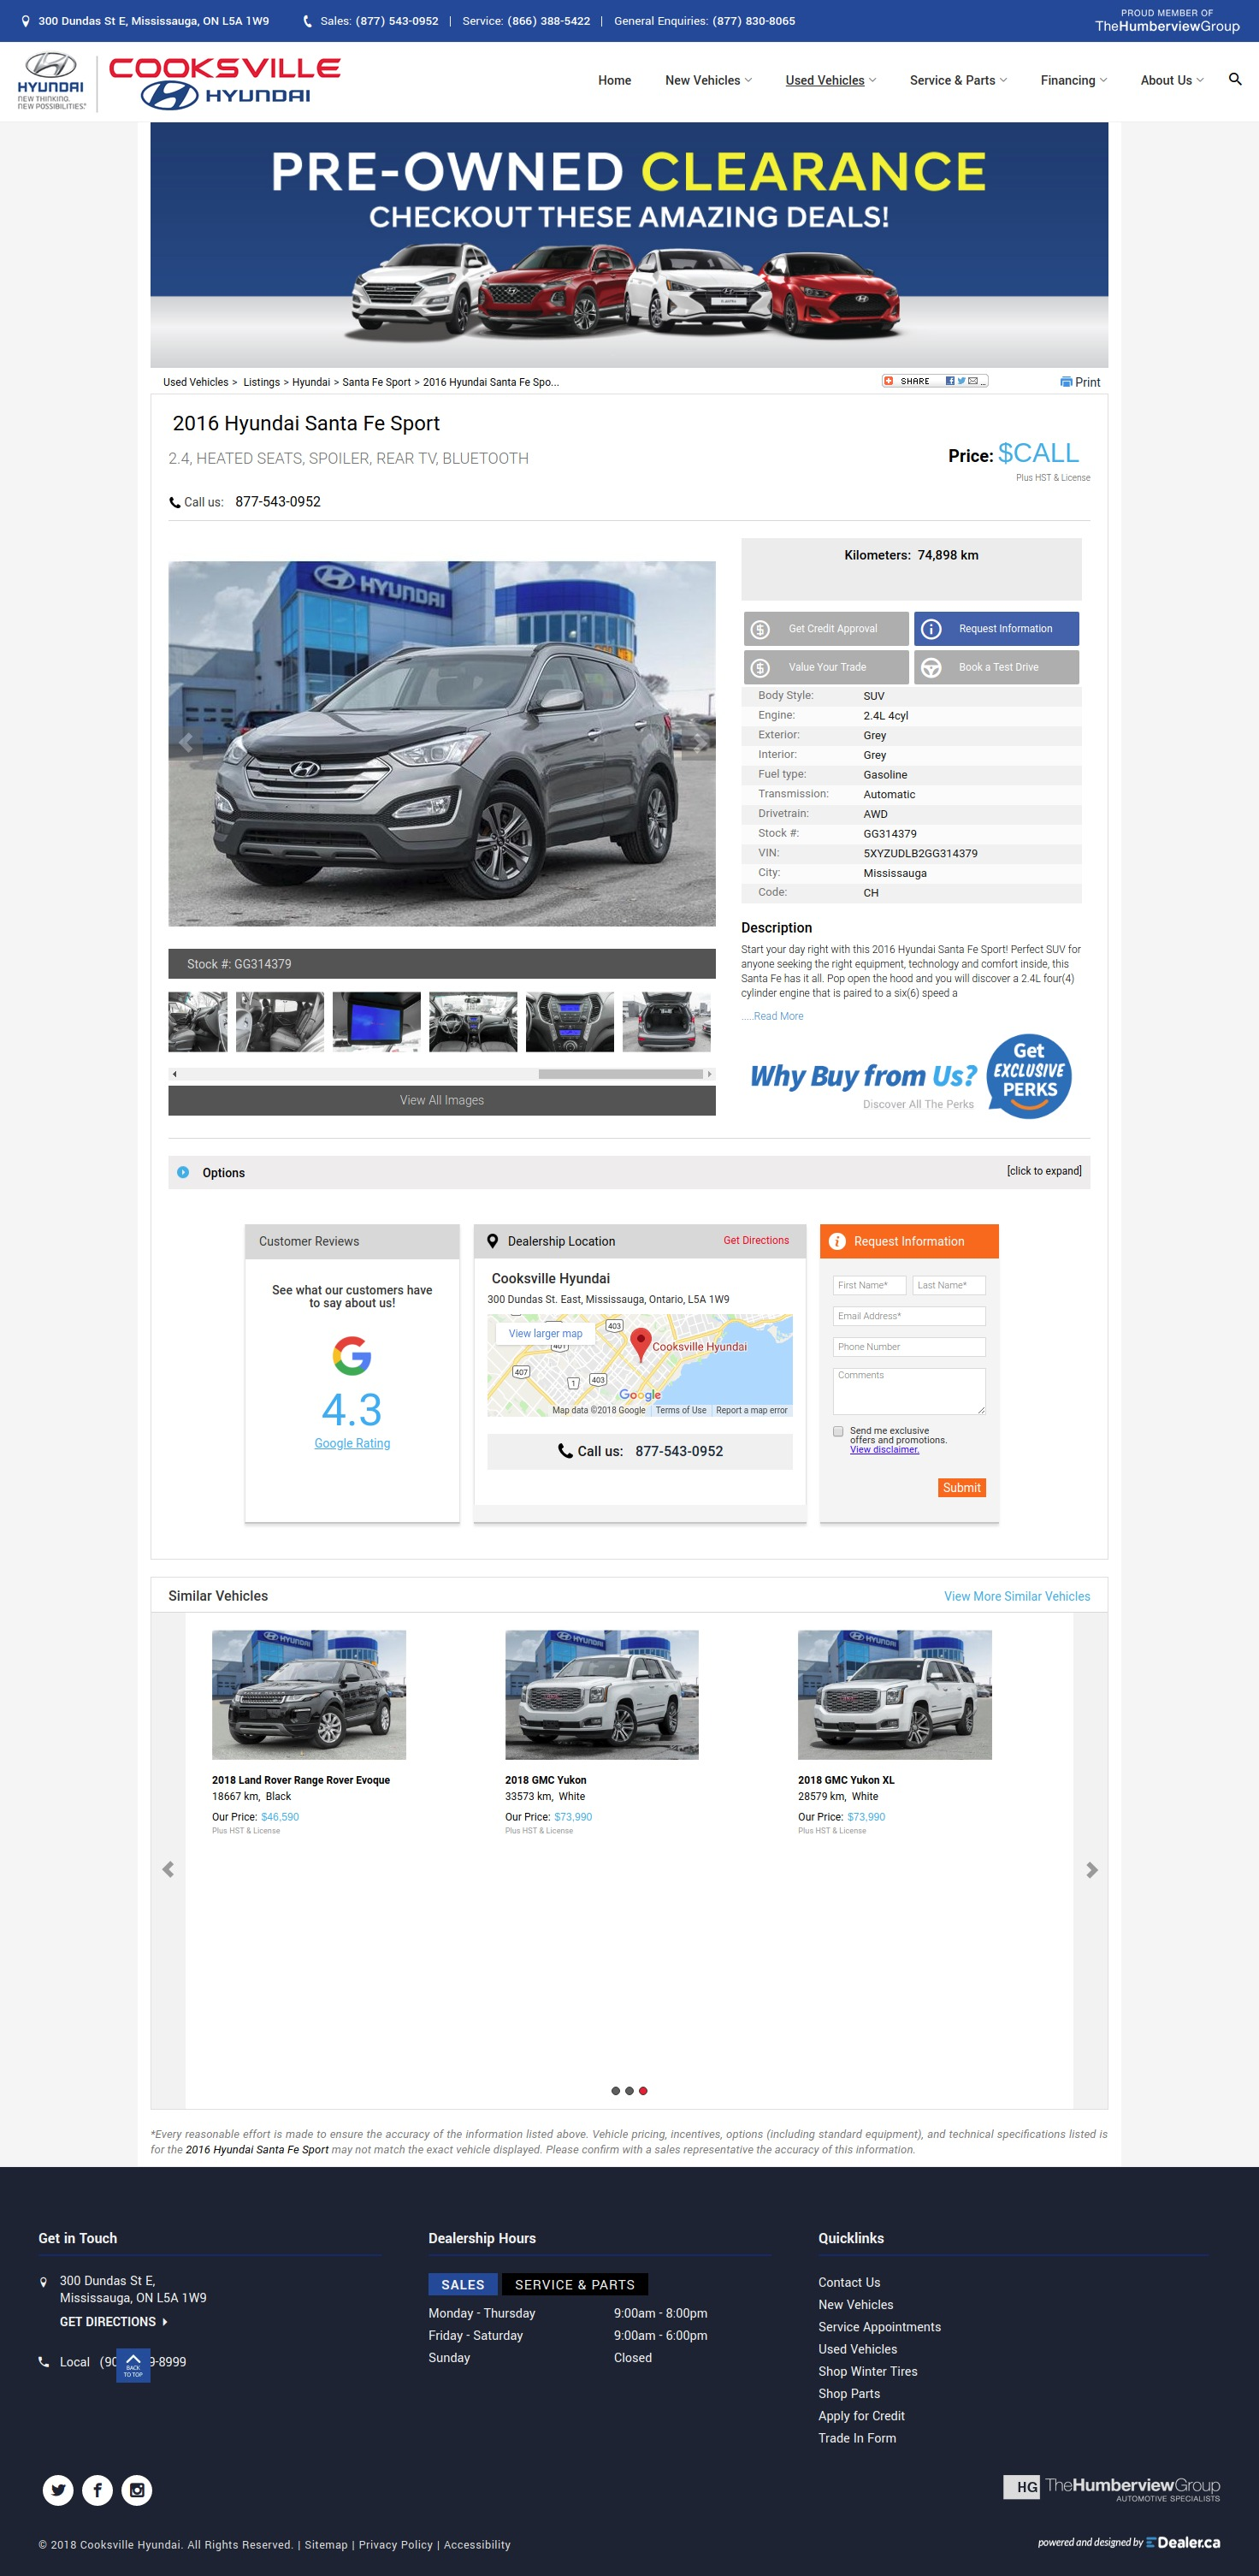car: (703, 1068, 717, 1081)
